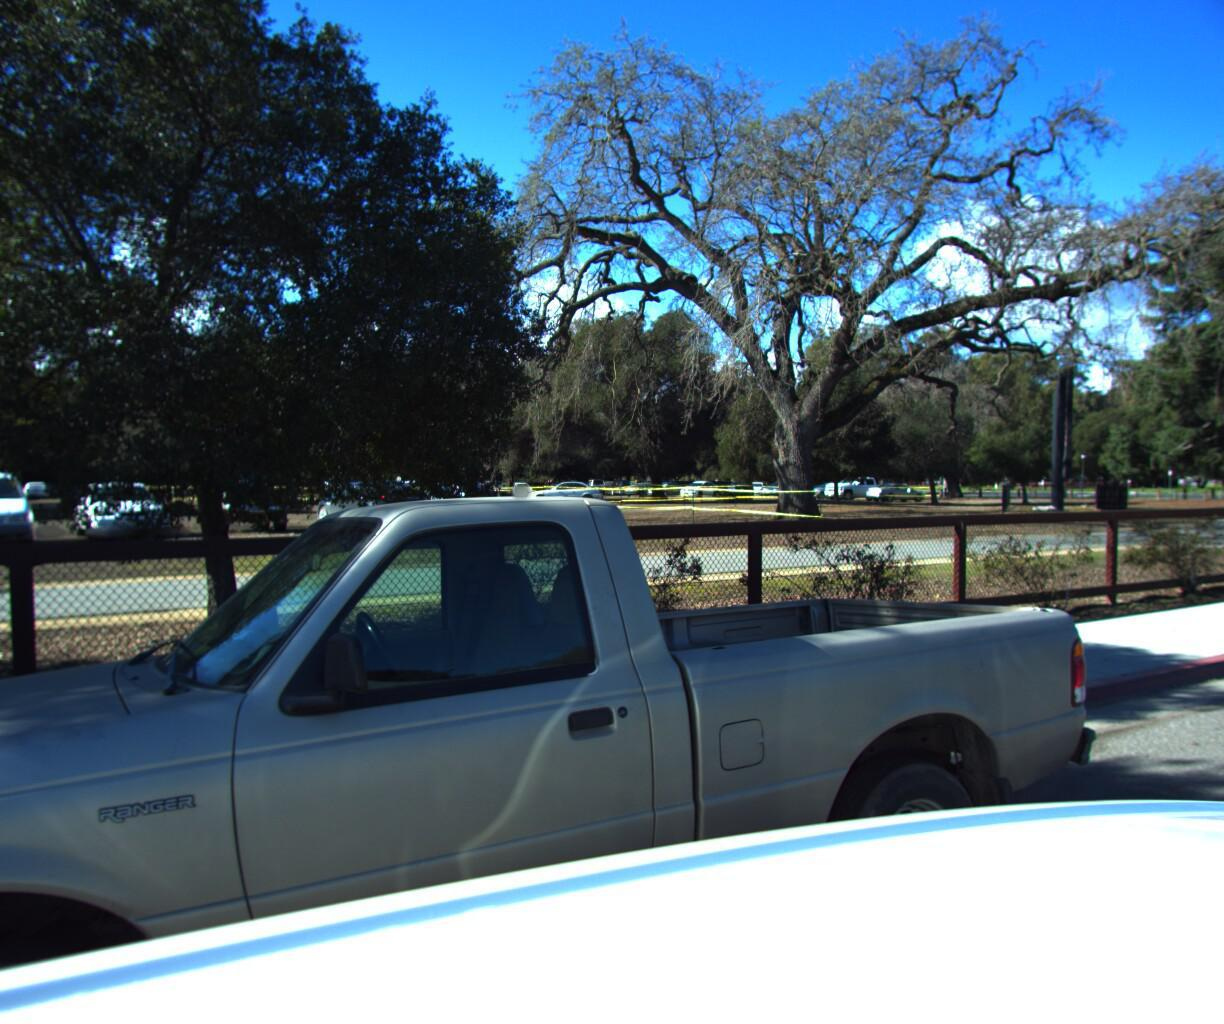car: (0, 489, 1182, 1024)
